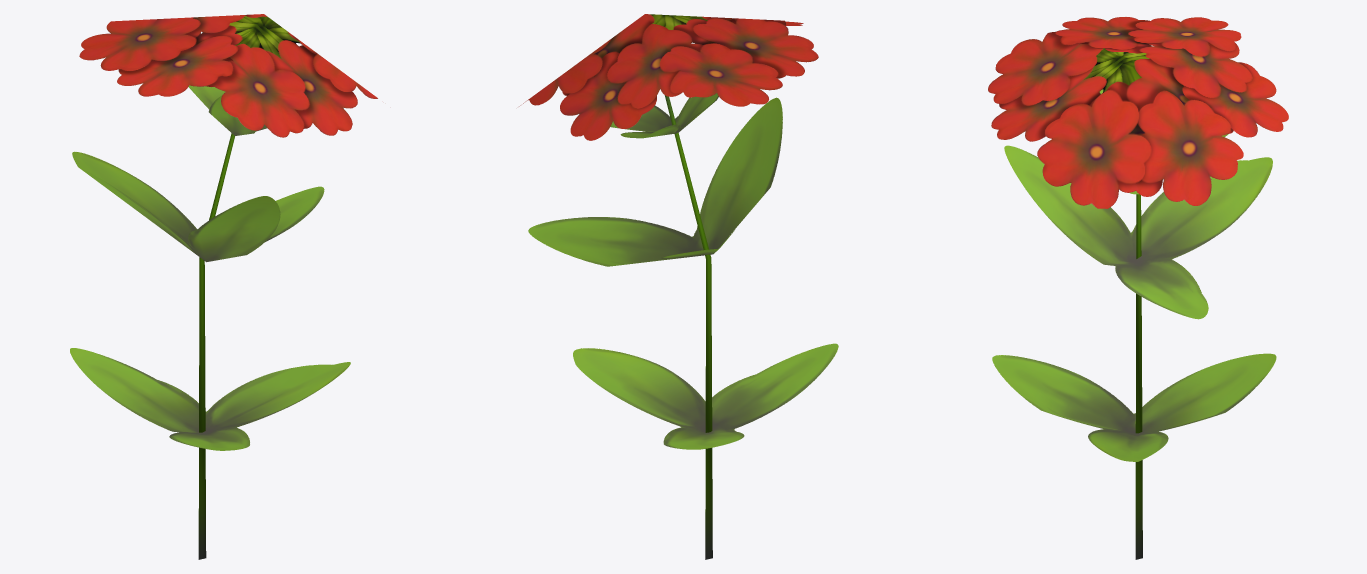
Rendered from RedFlowers 1.fbx.
The picture shows the model from 3 angles, left to right: view 1: azimuth 30°, elevation 25°; view 2: azimuth 150°, elevation 25°; view 3: azimuth 270°, elevation 25°; orthographic projection.
Visible parts, largest first — view 1: Plane.007, Plane.004, Plane.005, Cylinder.002, Plane.006; view 2: Plane.007, Plane.005, Plane.004, Cylinder.002, Plane.006; view 3: Plane.007, Plane.005, Plane.004, Cylinder.002.
Boxes of the visible parts, x1,y1,x2,y2 form: Plane.007: [79, 14, 377, 137]; Plane.004: [70, 348, 350, 450]; Plane.005: [72, 151, 324, 262]; Cylinder.002: [198, 133, 234, 559]; Plane.006: [188, 85, 267, 135]; Plane.007: [519, 14, 818, 140]; Plane.005: [528, 97, 782, 266]; Plane.004: [573, 343, 838, 449]; Cylinder.002: [664, 95, 712, 559]; Plane.006: [610, 93, 718, 138]; Plane.007: [988, 17, 1288, 208]; Plane.005: [1004, 145, 1272, 319]; Plane.004: [992, 353, 1276, 461]; Cylinder.002: [1135, 194, 1142, 559].
Bounding box in the file's own units: 74.28 × 100 × 74.28.
